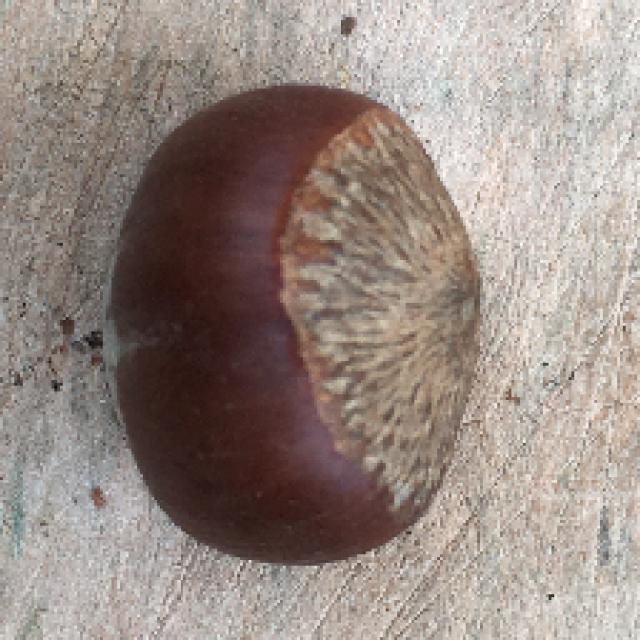damagedHazelnut: (92, 68, 488, 567)
